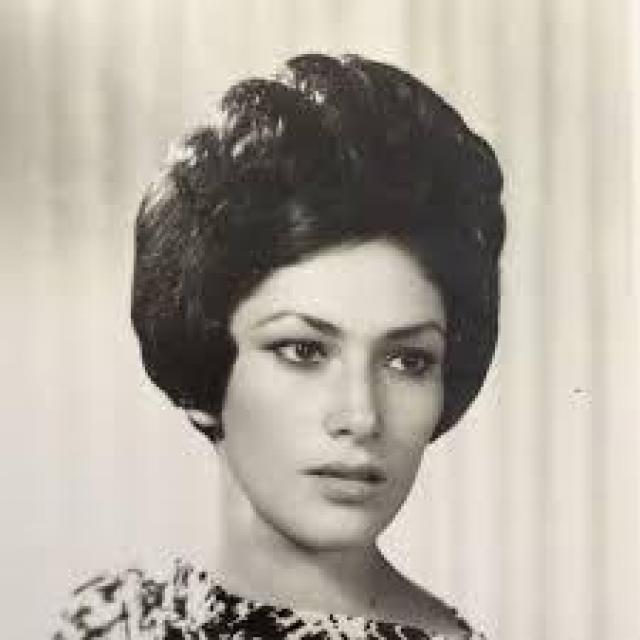person: (48, 48, 512, 638)
